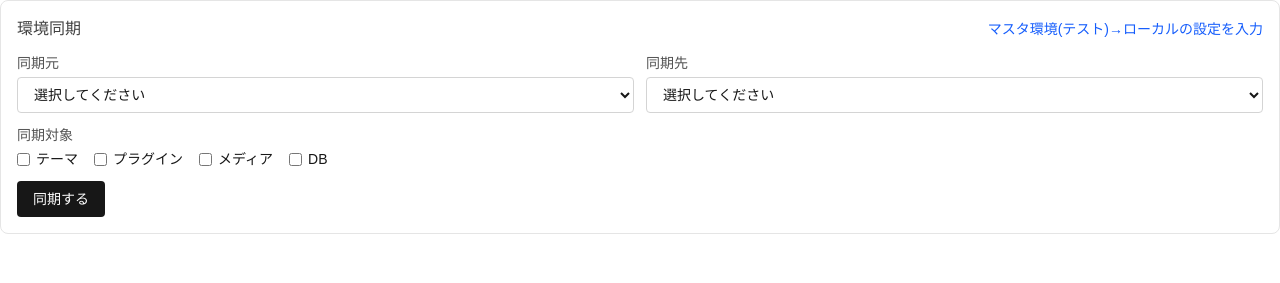
EnvironmentSyncPanel(issue #1697: ジョブ受理の非同期) › エラーは赤字で示し、受理の表示は出さない
The width and height of the screenshot is (1280, 283).
Select "本番" in the dropdown labelled "同期元" at point(326, 95), box [17,77,634,113]
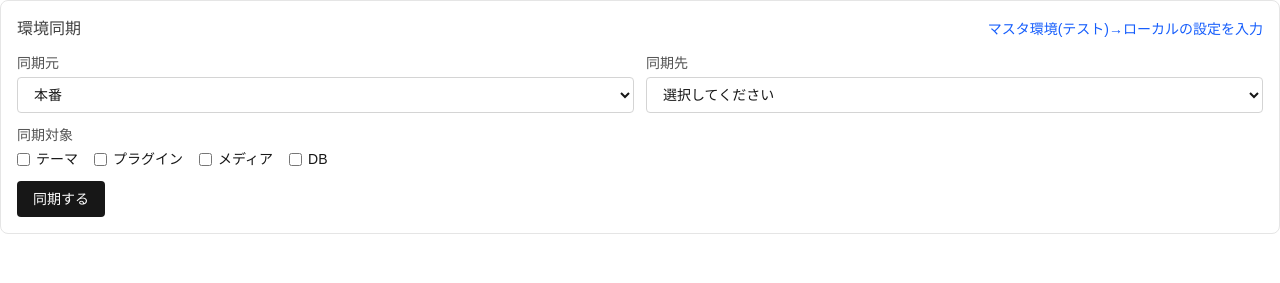
Select "ローカル" in the dropdown labelled "同期先" at point(954, 95), box [646,77,1263,113]
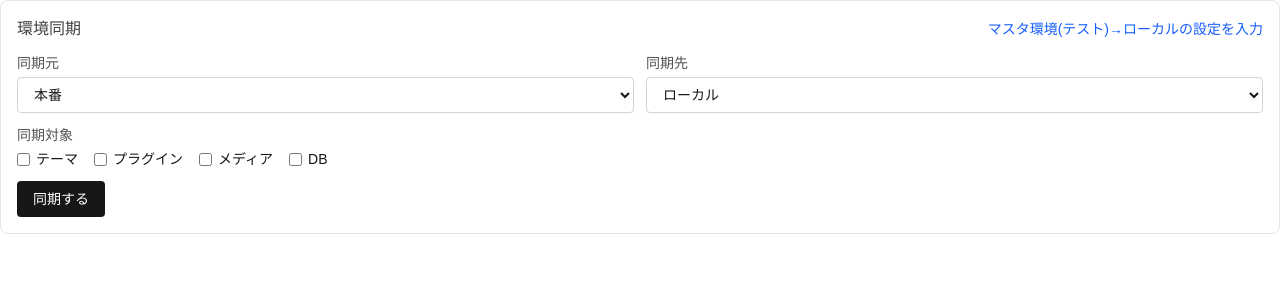
Click the checkbox labelled "DB" at point(296, 159), box [289,152,302,166]
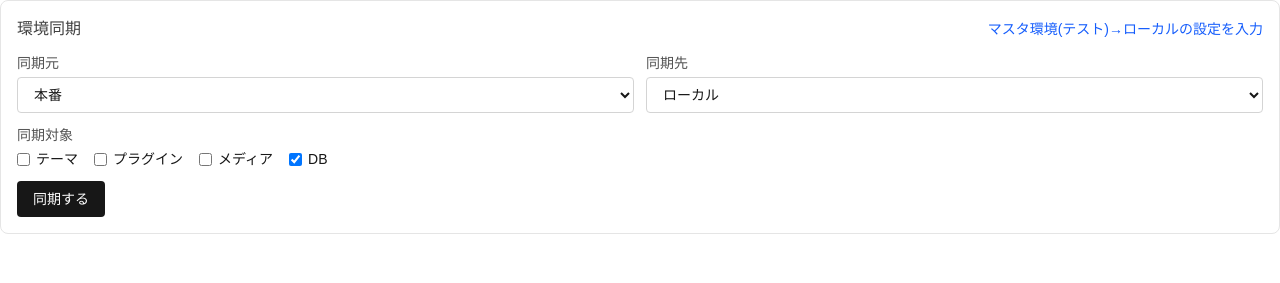
Submit the form "同期する", box [17,53,1263,217]
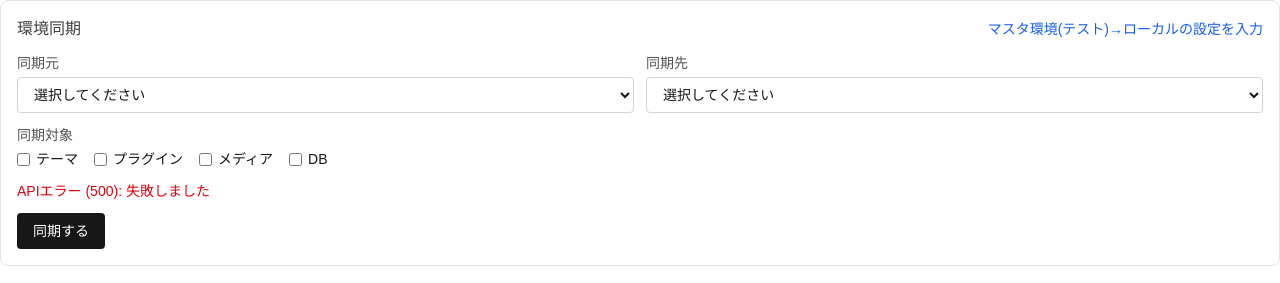
Expected: the text "APIエラー (500): 失敗しました" is shown, [17,183,210,199]
